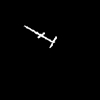double_crochet: (25, 26, 56, 47)
